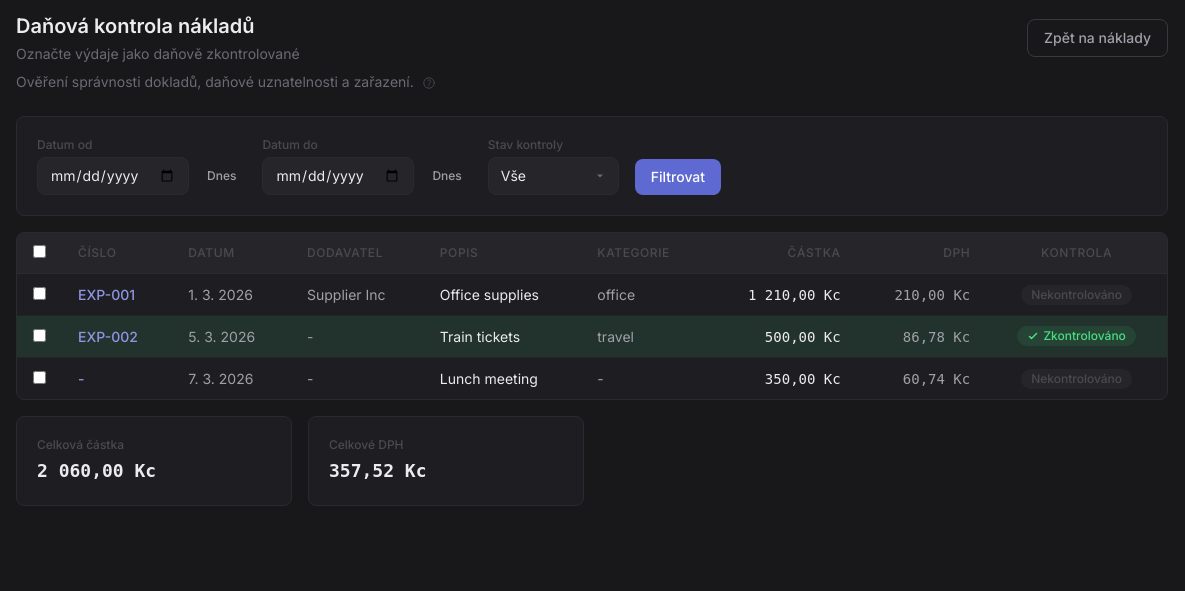
Test: Expense Tax Review › individual checkbox toggles single selection
Expected: the text "Office supplies" is shown, [424,274,581,316]
Click the checkbox next to "EXP-001". click: (40, 293)
box: [33,286,46,300]
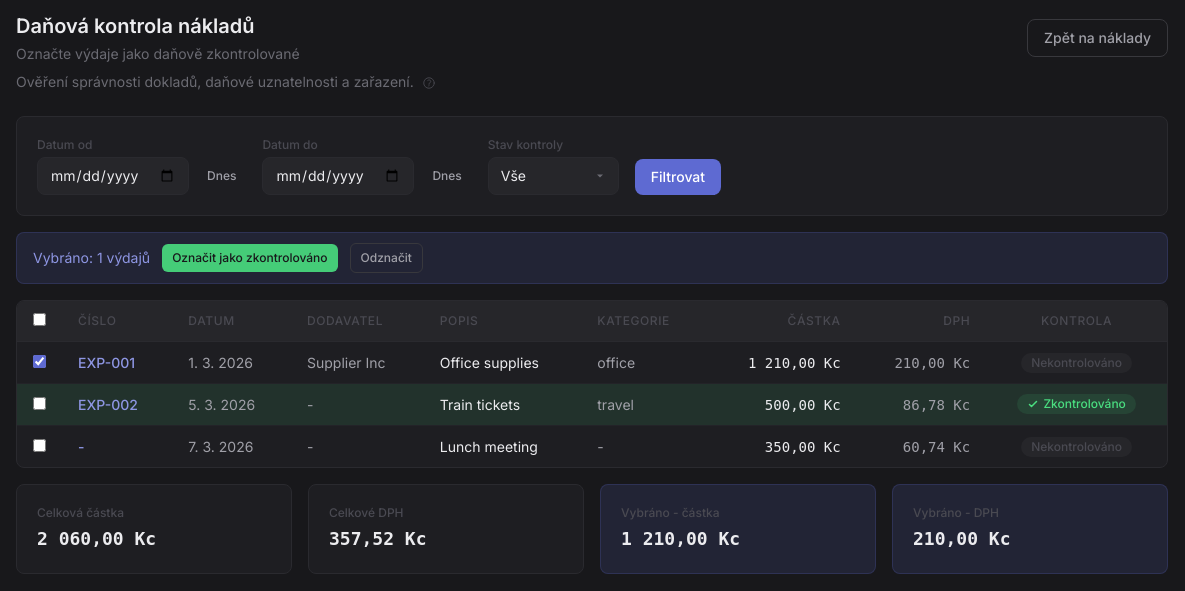
Expected: the text "Vybráno: 1 výdajů" is shown, [33,248,150,268]
